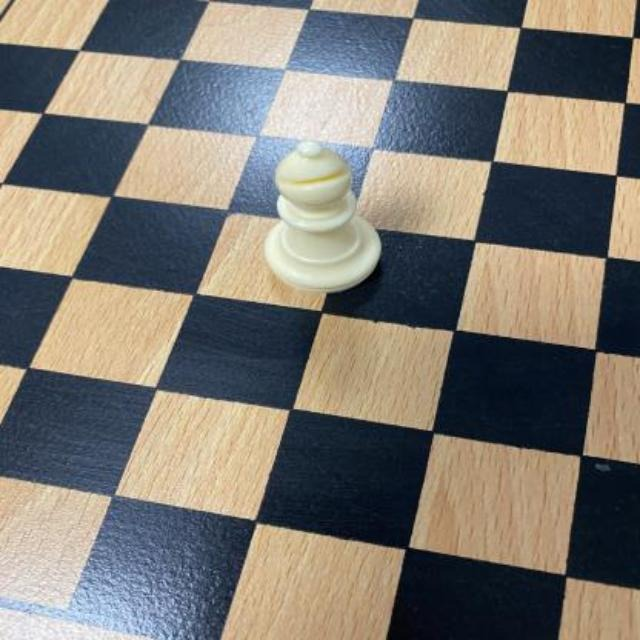white-bishop: (261, 139, 382, 291)
